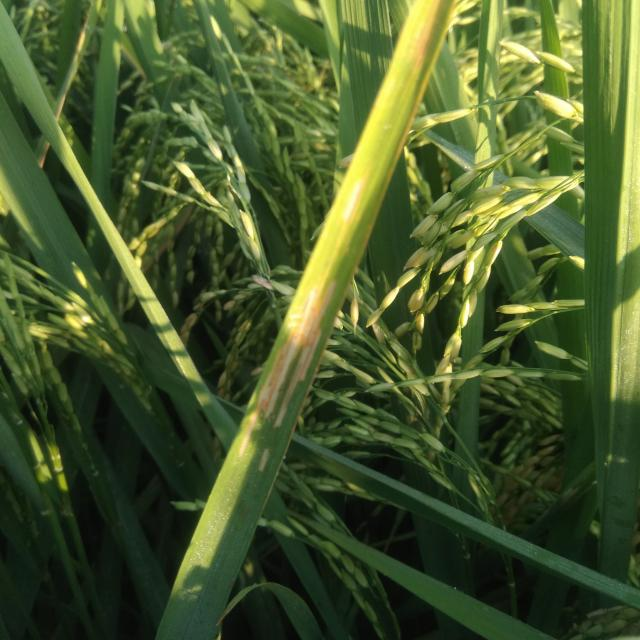brown plant hopper: (218, 268, 343, 481), (406, 0, 442, 74), (338, 173, 368, 230)
